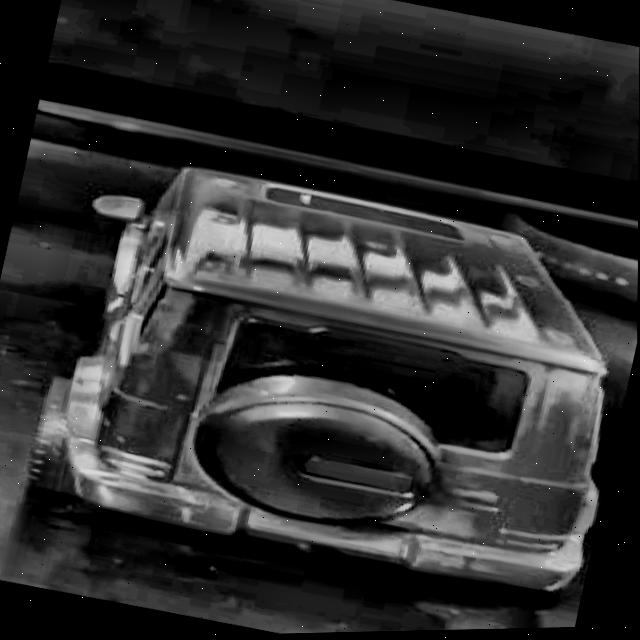light_vehicle: (9, 119, 639, 640)
